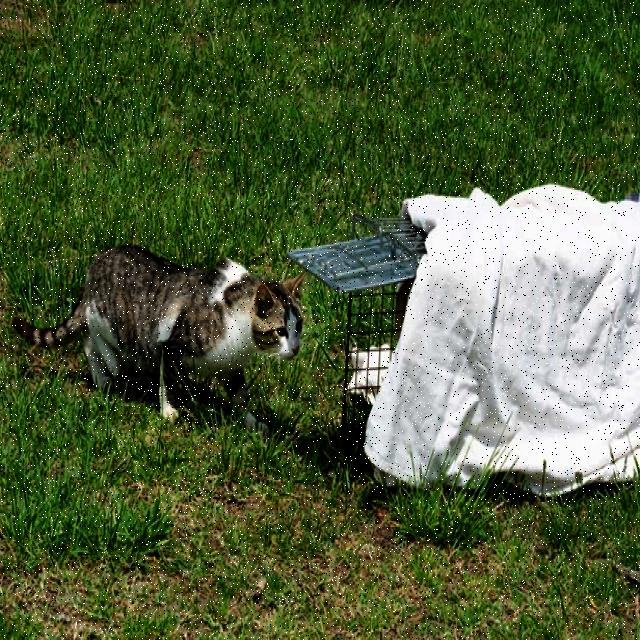cat: (12, 245, 302, 433)
